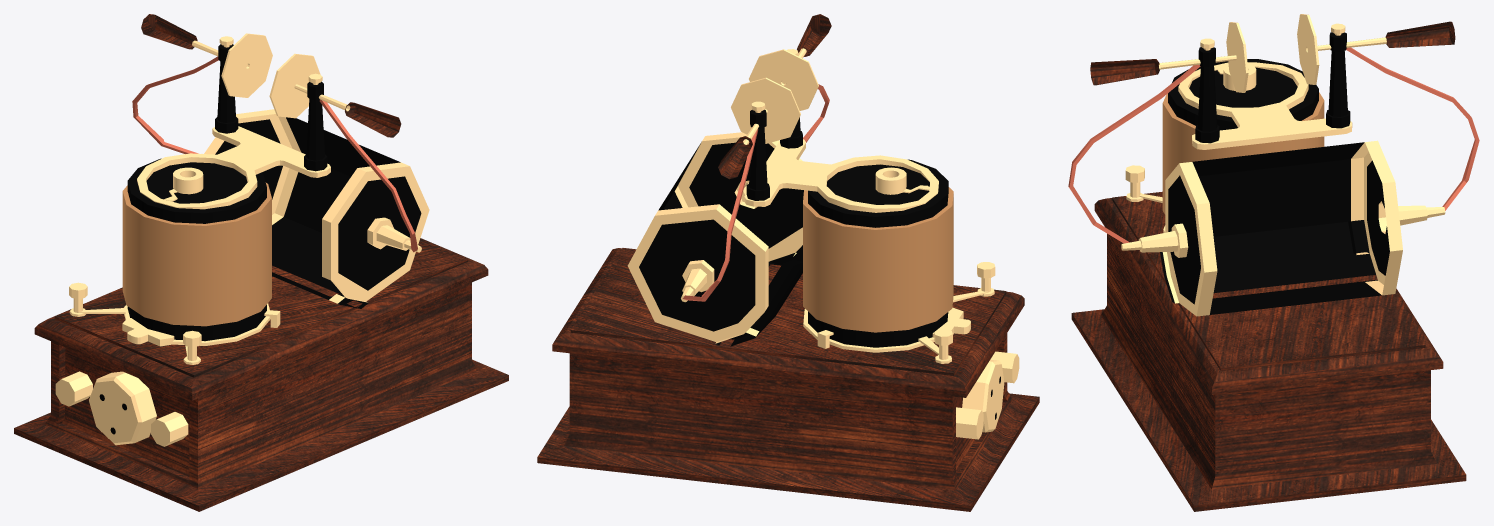
File: invention-tesla-coil.glb
3 views of the same model, side by side, from view 1: azimuth 30°, elevation 25°; view 2: azimuth 150°, elevation 25°; view 3: azimuth 270°, elevation 25° (orthographic). The views are drawn at different scales.
Parts seen in each view (by area): view 1: objects; view 2: objects; view 3: objects.
Part boxes in pixels (<box>): objects: <box>14,14,508,511</box>; objects: <box>537,14,1039,511</box>; objects: <box>1068,14,1479,511</box>.
Bounding box in the file's own units: 1.38 × 1.11 × 1.07.
Materials: 5 (1 with a texture image).
